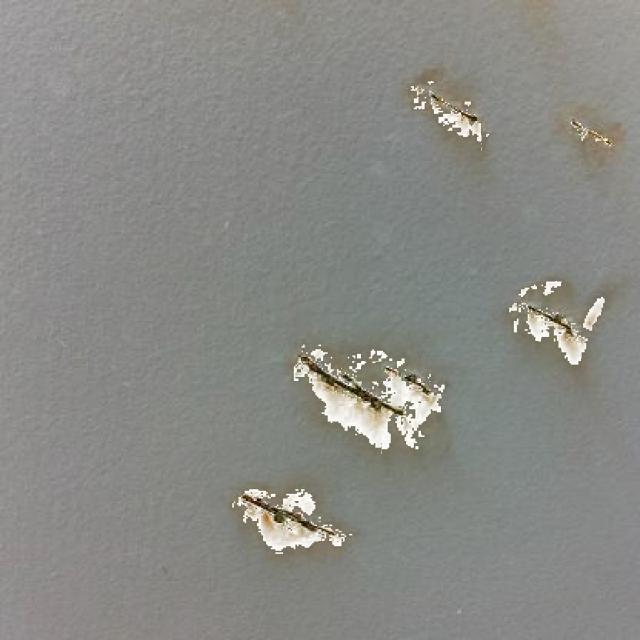crack: (300, 355, 403, 414), (236, 492, 344, 540), (430, 92, 482, 126), (530, 307, 575, 340), (384, 367, 430, 394), (574, 119, 607, 143)
dent: (308, 347, 445, 451), (509, 279, 605, 367), (230, 488, 324, 553), (410, 68, 464, 134), (558, 112, 624, 152)
